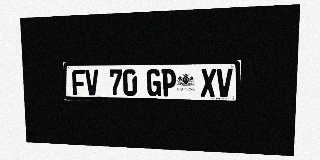0: (123, 69, 137, 96)
7: (109, 69, 123, 96)
F: (72, 70, 85, 95)
G: (147, 69, 161, 96)
P: (161, 69, 176, 96)
V: (216, 69, 232, 97), (85, 69, 99, 95)
X: (200, 69, 216, 97)
